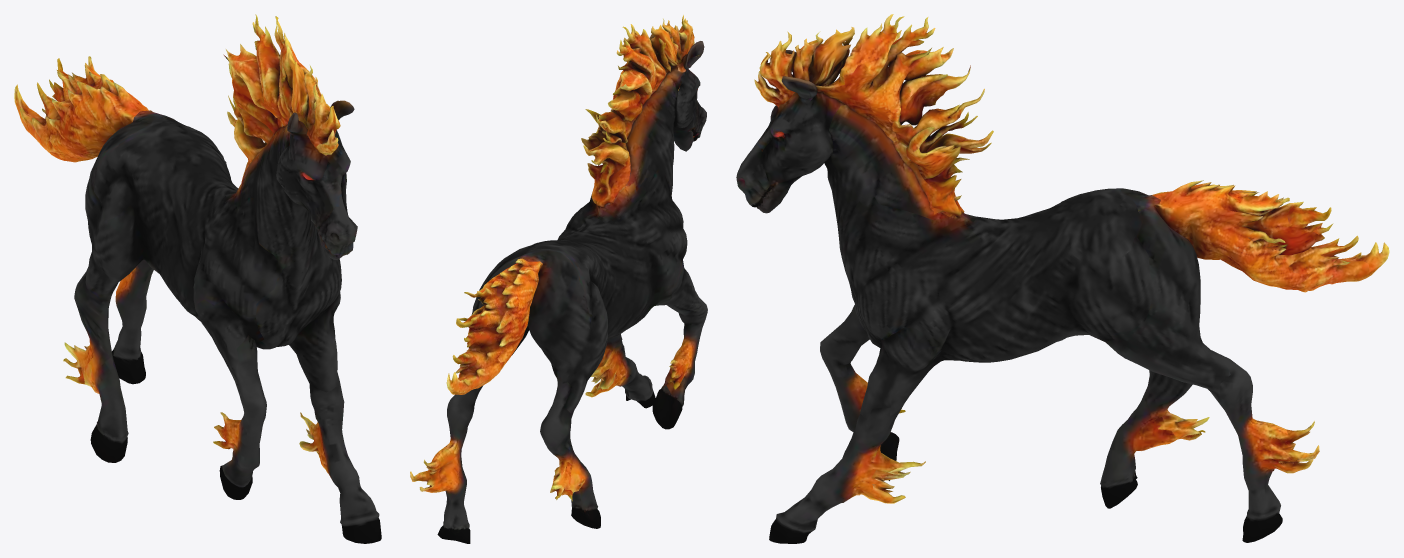
Rendered from MZ4250 - Nightmare_alt.glb.
The picture shows the model from 3 angles, left to right: view 1: azimuth 30°, elevation 25°; view 2: azimuth 150°, elevation 25°; view 3: azimuth 270°, elevation 25°; orthographic projection. The views are drawn at different scales.
Parts seen in each view (by area): view 1: Horse-base.002; view 2: Horse-base.002; view 3: Horse-base.002.
Part boxes in pixels (x1=…): Horse-base.002: x1=14, y1=14, x2=381, y2=543; Horse-base.002: x1=410, y1=15, x2=707, y2=543; Horse-base.002: x1=736, y1=14, x2=1389, y2=543.
Bounding box in the file's own units: 40.51 × 136 × 154.
1 material, 1 textured.
